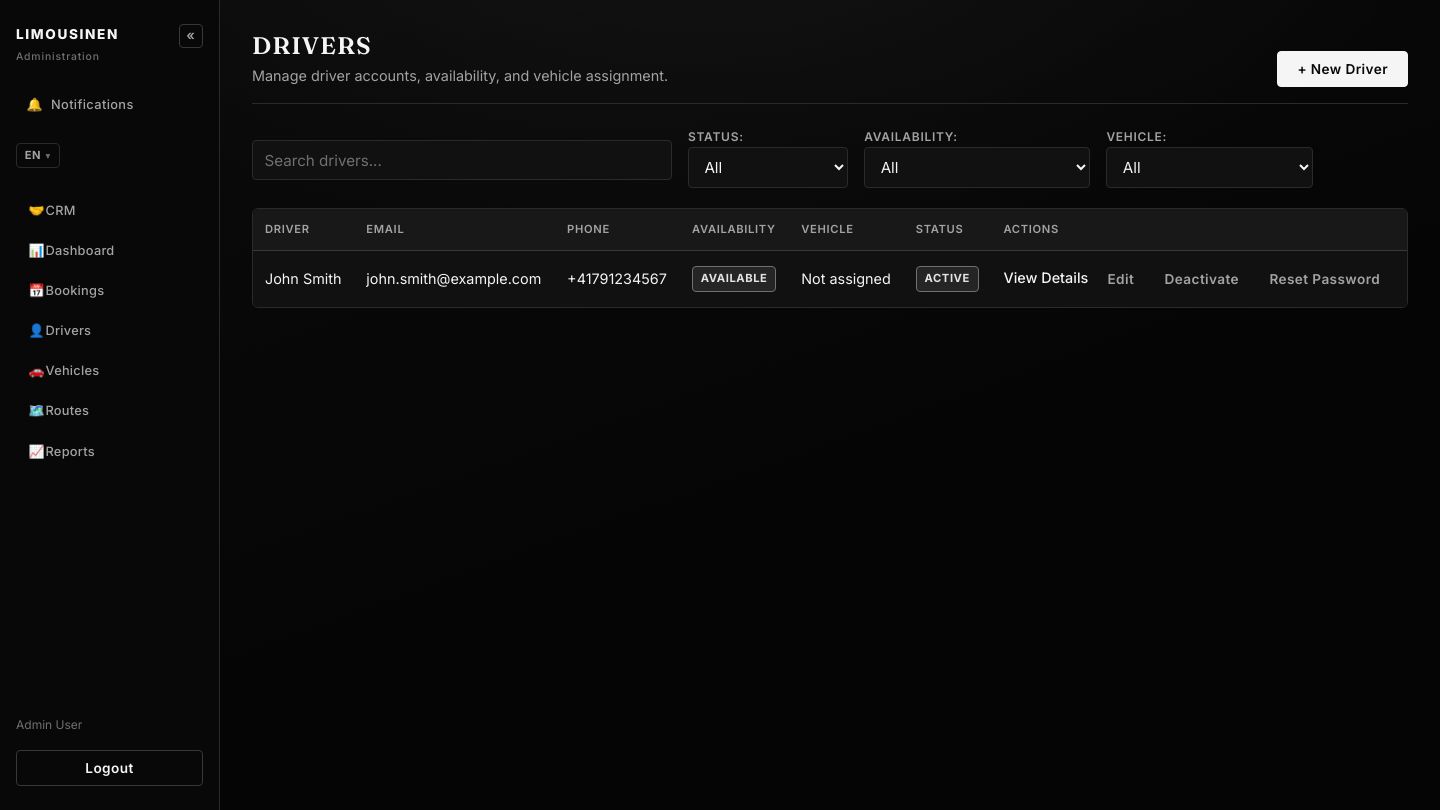
Test: DriversPage › edits an existing driver
This screenshot has width=1440, height=810.
Expected: the text "John Smith" is shown, [253, 251, 354, 307]
Click the button "Edit".
click(1121, 279)  # box [1096, 263, 1145, 295]
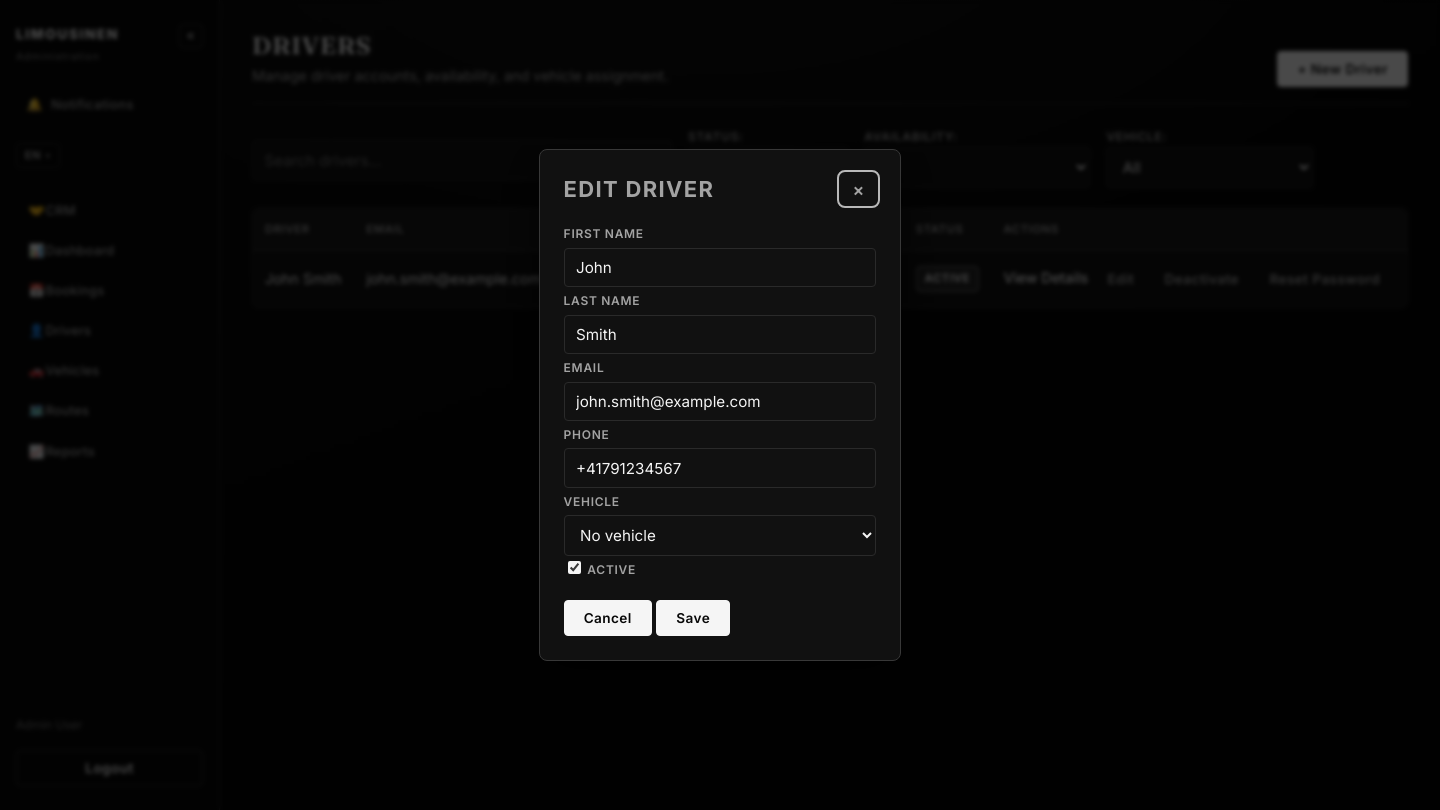
Replace the text in the field labelled "Last name" with "Doe" at (720,334), box [564, 315, 876, 354]
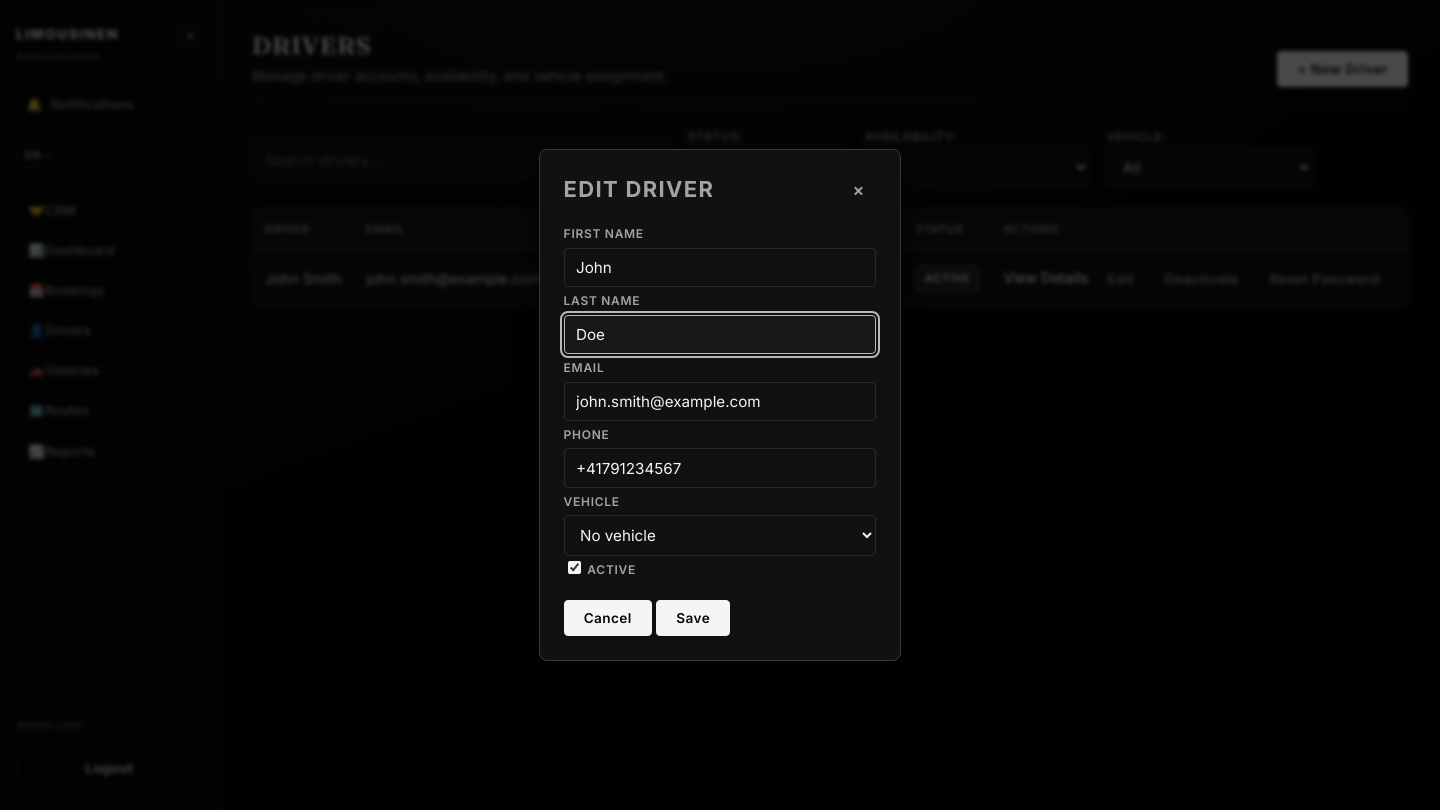
Click the button "Save".
click(693, 618)  # box [656, 600, 730, 636]
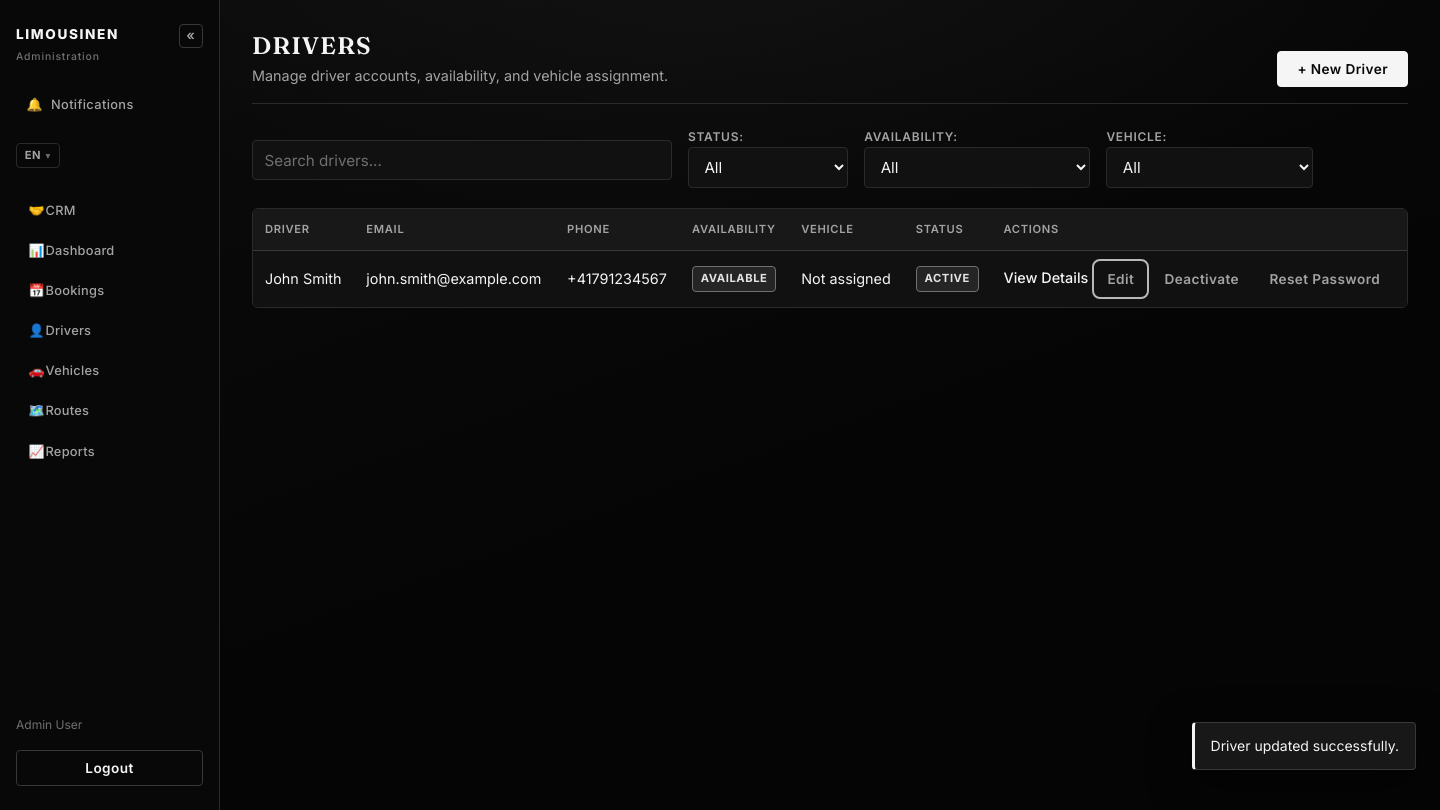
Result: the message reads "Driver updated successfully." at [1210, 737, 1399, 754]
